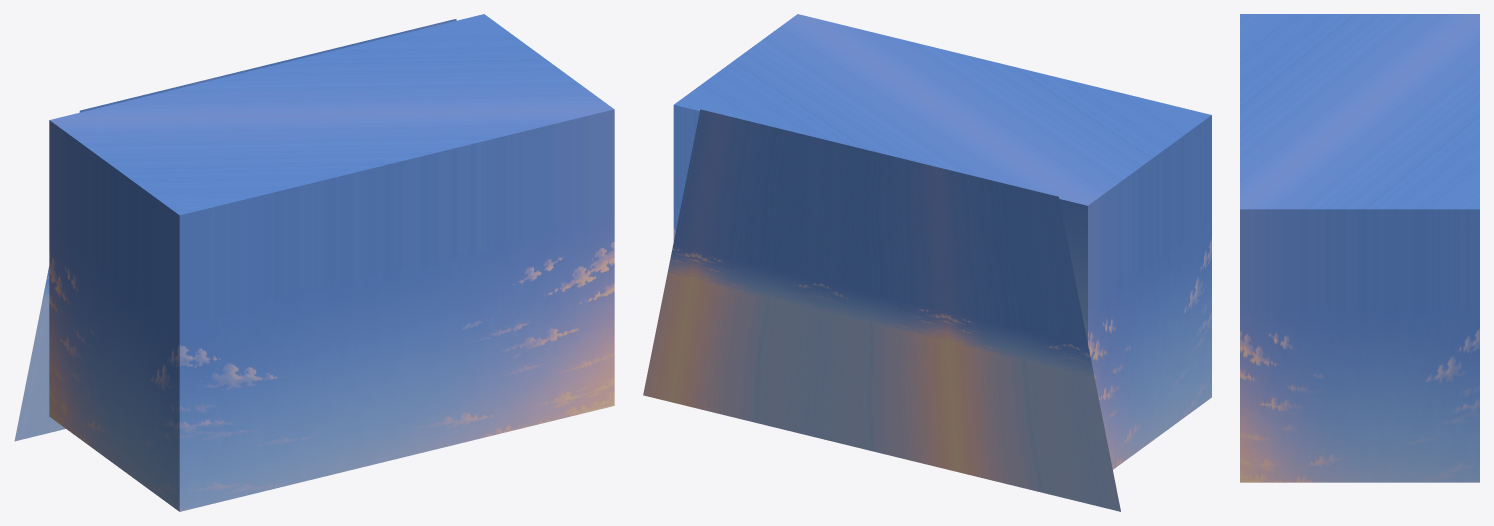
File: Building_Wall_HighlandRampart_1.fbx
3 views of the same model, side by side, from view 1: azimuth 30°, elevation 25°; view 2: azimuth 150°, elevation 25°; view 3: azimuth 270°, elevation 25° (orthographic). The views are drawn at different scales.
Visible parts, largest first — view 1: Sky return and zenith, North morning sky - distant clouds; view 2: North morning sky - distant clouds, Sky return and zenith; view 3: Sky return and zenith.
Part boxes in pixels (x1=…): Sky return and zenith: x1=49, y1=14, x2=614, y2=511; North morning sky - distant clouds: x1=14, y1=19, x2=456, y2=441; North morning sky - distant clouds: x1=643, y1=109, x2=1120, y2=511; Sky return and zenith: x1=673, y1=14, x2=1211, y2=469; Sky return and zenith: x1=1240, y1=14, x2=1479, y2=482.
Size of the model in its own units: 44276 by 26552 by 19900.
Materials: 15 (4 with a texture image).
